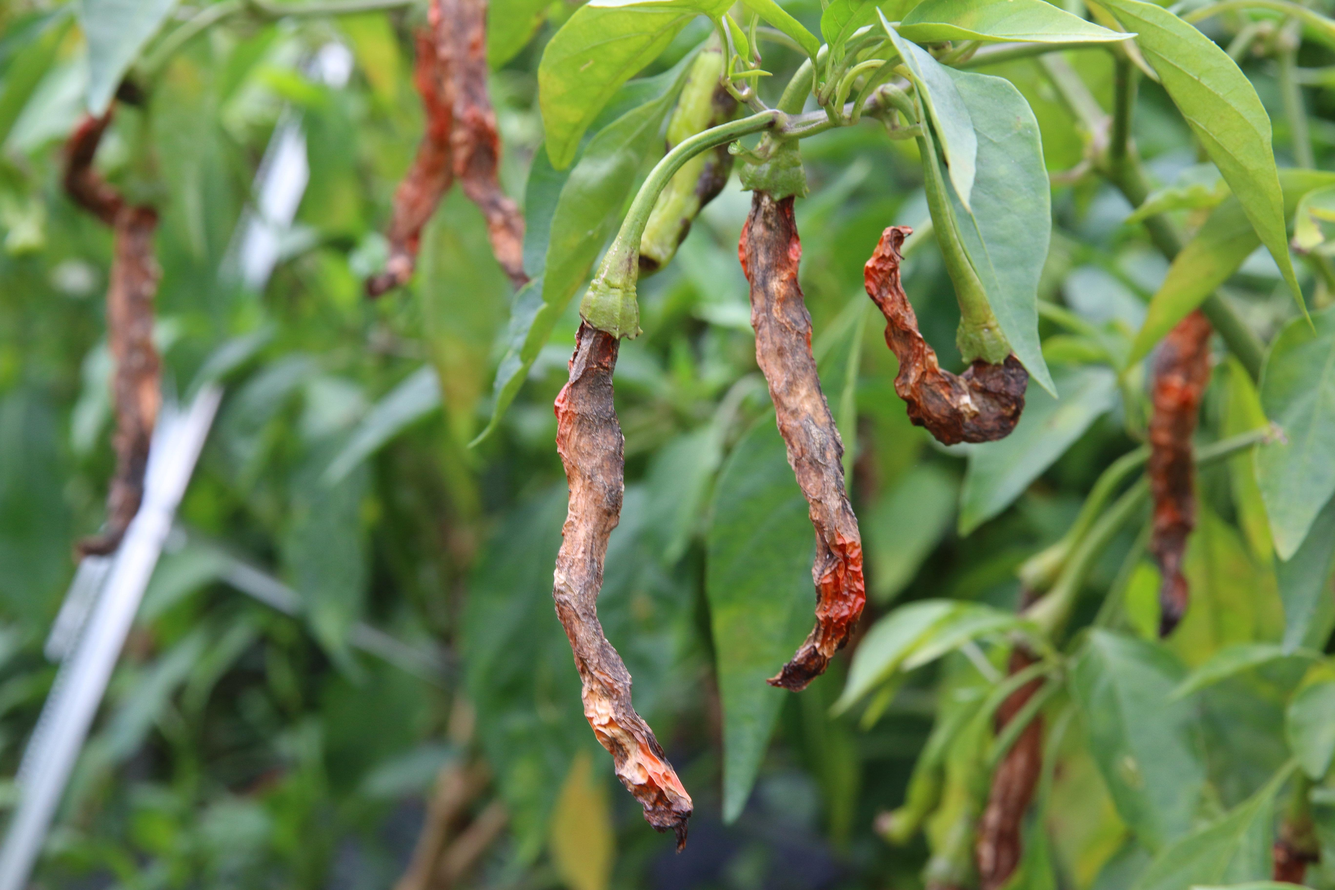Busuk Buah Antraknosa: (542, 294, 708, 849), (734, 142, 870, 690), (361, 0, 543, 297), (73, 98, 169, 573), (871, 211, 1038, 453), (1142, 306, 1215, 639)
